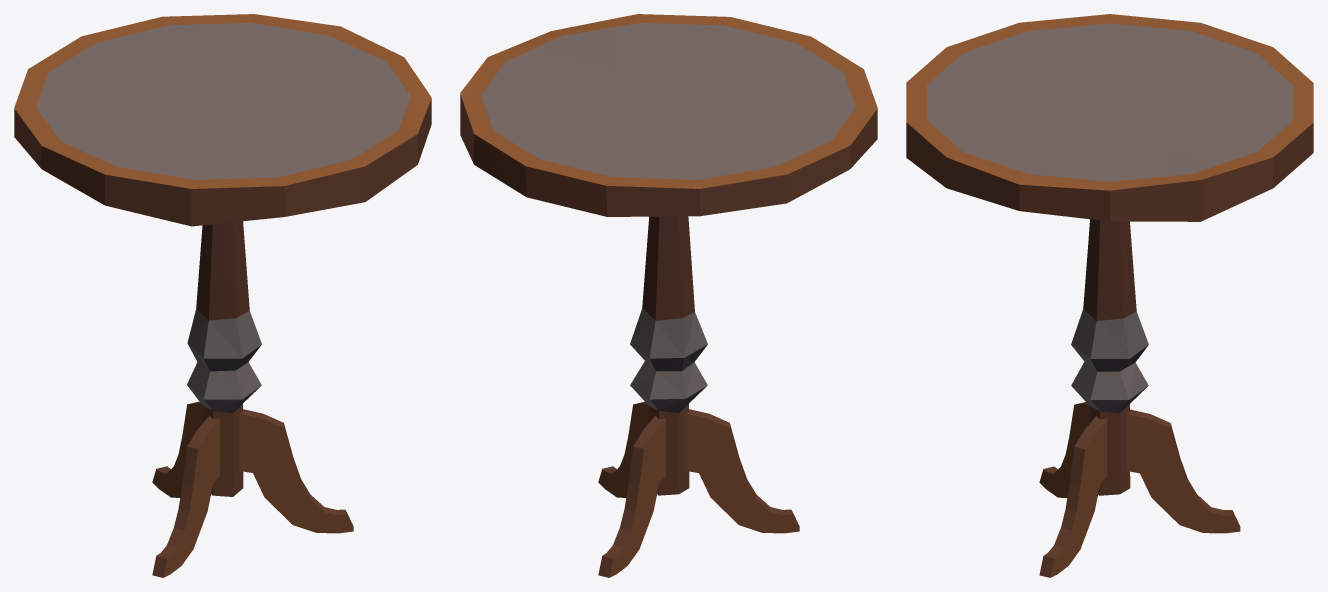
The model's file is table_side_small_downstairs.fbx.
3 renders of one model, left to right at view 1: azimuth 30°, elevation 25°; view 2: azimuth 150°, elevation 25°; view 3: azimuth 270°, elevation 25°, orthographic.
Visible parts, largest first — view 1: table_side_small; view 2: table_side_small; view 3: table_side_small.
Part boxes in pixels (x1,y1,x2,y2): table_side_small: [14, 14, 431, 577]; table_side_small: [460, 14, 877, 577]; table_side_small: [906, 14, 1313, 577].
Bounding box in the file's own units: 63.28 × 71.86 × 61.69.
